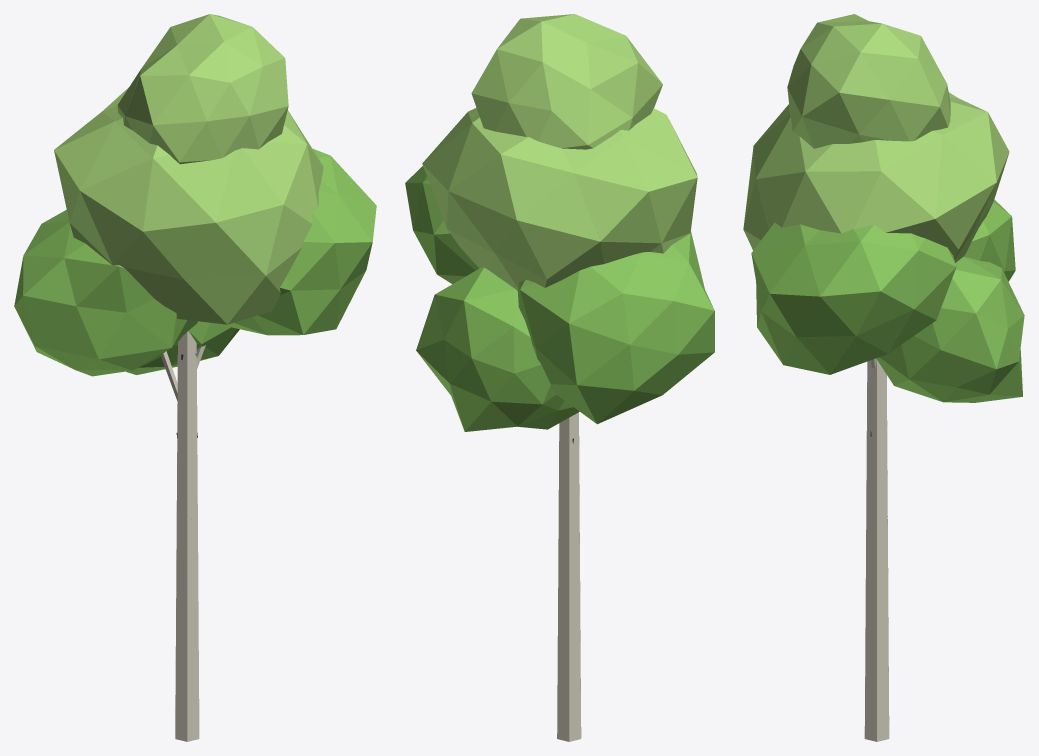
The model's file is birch-a.glb.
3 renders of one model, left to right at view 1: azimuth 30°, elevation 25°; view 2: azimuth 150°, elevation 25°; view 3: azimuth 270°, elevation 25°, orthographic. The views are drawn at different scales.
Parts seen in each view (by area): view 1: tree; view 2: tree; view 3: tree.
Part boxes in pixels (bbox=[...]): tree: bbox=[14, 14, 376, 741]; tree: bbox=[405, 14, 714, 741]; tree: bbox=[743, 14, 1024, 741].
Bounding box in the file's own units: 3.69 × 7.91 × 2.78.
